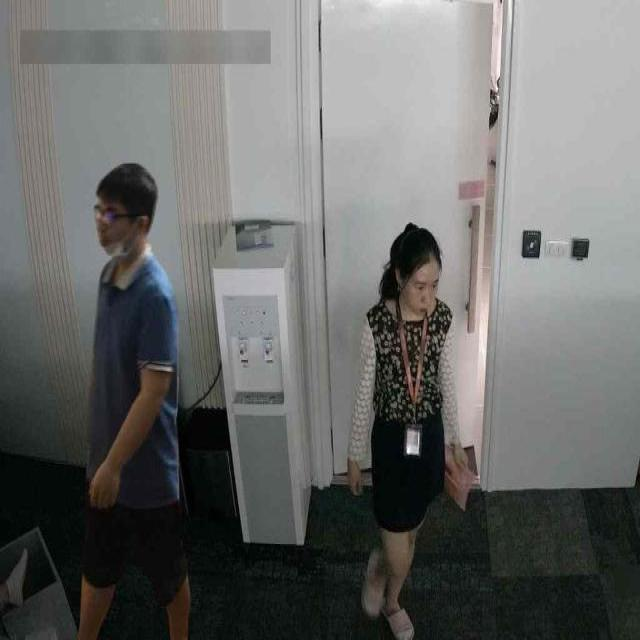bare_hand: (332, 452, 388, 523), (84, 452, 138, 520)
